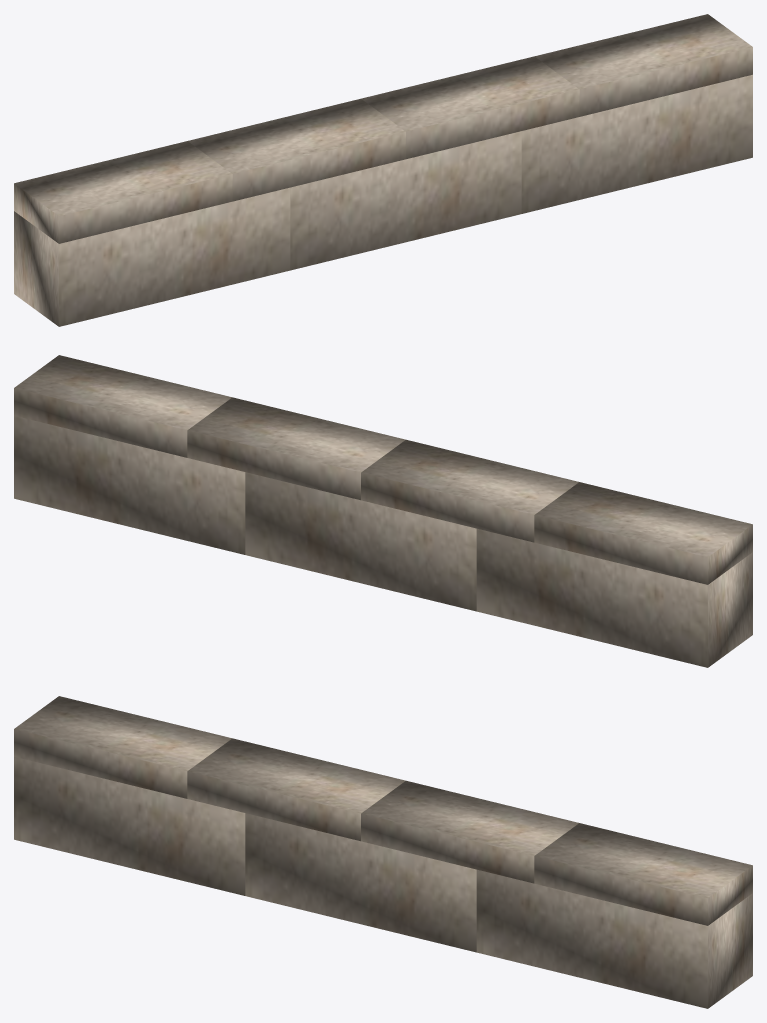
Rendered from limestone slabs.glb.
3 renders of one model, top to bottom at view 1: azimuth 30°, elevation 25°; view 2: azimuth 150°, elevation 25°; view 3: azimuth 330°, elevation 25°, orthographic.
Visible parts, largest first — view 1: Limestone Slabs; view 2: Limestone Slabs; view 3: Limestone Slabs.
Boxes of the visible parts, <box> form: Limestone Slabs: <box>14,14,752,326</box>; Limestone Slabs: <box>14,355,752,667</box>; Limestone Slabs: <box>14,696,752,1008</box>.
Size of the model in its own units: 2 by 0.3048 by 0.225.
1 material, 1 textured.
